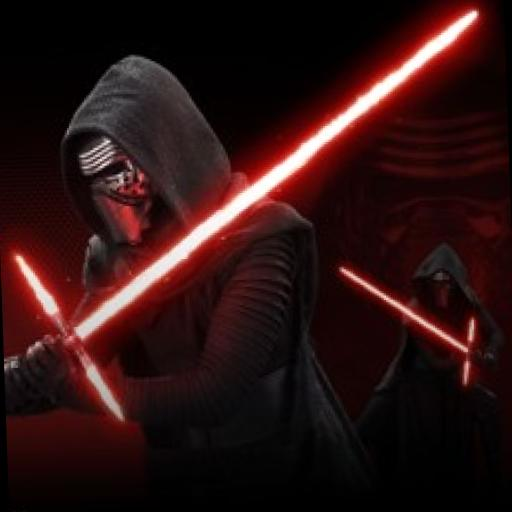human: (0, 45, 349, 512)
sith saber: (0, 3, 493, 426), (334, 254, 501, 392)
